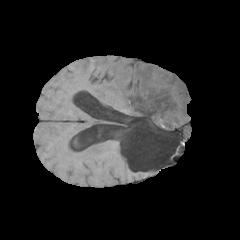glioma: (101, 63, 189, 170)
